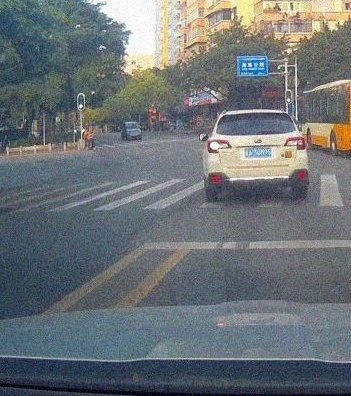L_light: (207, 139, 232, 153)
R_light: (284, 137, 307, 150)
T_light: (245, 113, 260, 116)
day-left: (205, 110, 309, 200)
